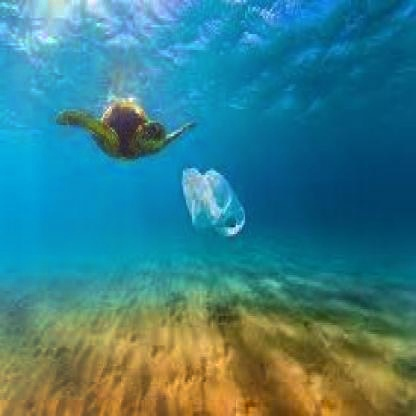pbag: (180, 166, 247, 239)
